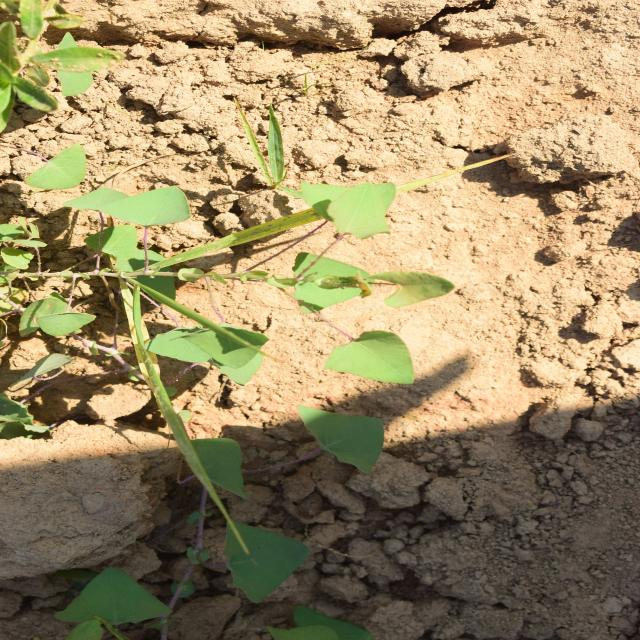Asiatic_Smartweed: (166, 185, 459, 453), (390, 24, 505, 206)
